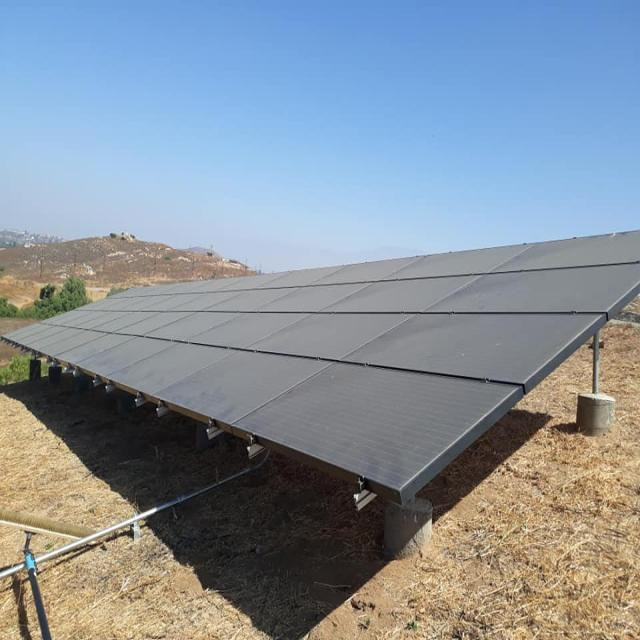dust-solar-panel: (0, 229, 640, 497)
